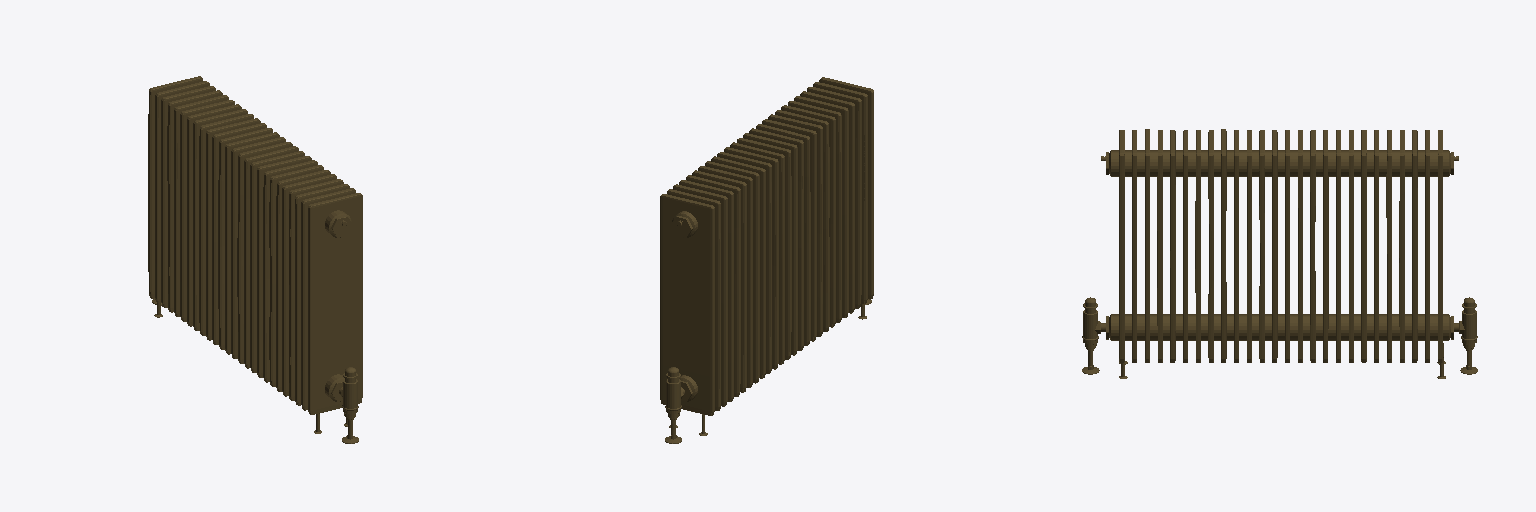
File: radiator.obj
3 renders of one model, left to right at view 1: azimuth 30°, elevation 25°; view 2: azimuth 150°, elevation 25°; view 3: azimuth 270°, elevation 25°, orthographic.
Parts seen in each view (by area): view 1: ChamferBox065.001; view 2: ChamferBox065.001; view 3: ChamferBox065.001.
Boxes of the visible parts, x1=… form: ChamferBox065.001: x1=148, y1=76, x2=362, y2=443; ChamferBox065.001: x1=660, y1=77, x2=873, y2=443; ChamferBox065.001: x1=1082, y1=129, x2=1477, y2=378.
Size of the model in its own units: 0.1812 by 0.7413 by 1.16.